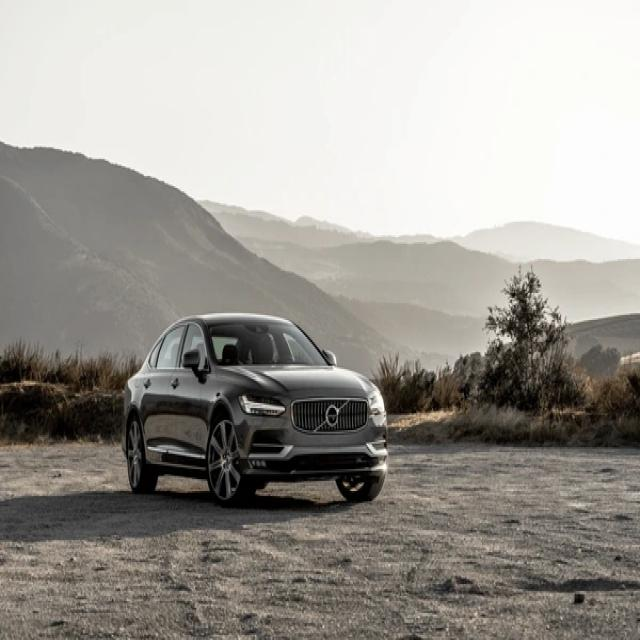volvo: (326, 406, 340, 429)
